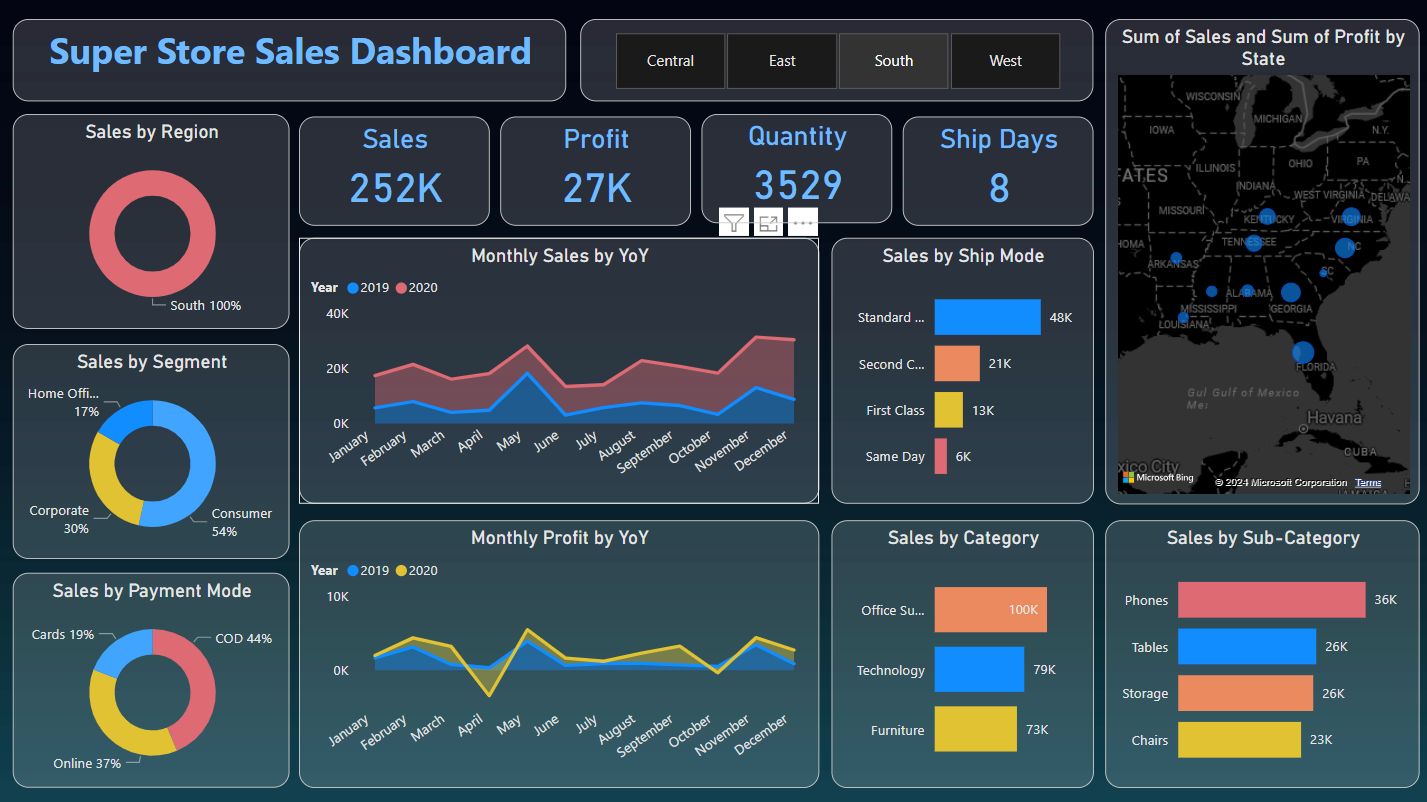

What the dashboard file says about the page in this screenshot:
{"tool":"powerbi","page":{"name":"Page 1","canvas":[1280,720],"ordinal":0},"visuals":[{"type":"clusteredBarChart","title":"Sales by Category","fields":{"Category":["SuperStore_Sales_Dataset.Category"],"Y":["Sum(SuperStore_Sales_Dataset.Sales)"]},"box":[743.3,465.9,234.1,238.9],"z":0},{"type":"clusteredBarChart","title":"Sales by Sub-Category","fields":{"Category":["SuperStore_Sales_Dataset.Sub-Category"],"Y":["Sum(SuperStore_Sales_Dataset.Sales)"]},"box":[988.2,465.9,281,238.9],"z":1000},{"type":"clusteredBarChart","title":"Sales by Ship Mode","fields":{"Category":["SuperStore_Sales_Dataset.Ship Mode"],"Y":["Sum(SuperStore_Sales_Dataset.Sales)"]},"box":[743.3,213.7,234.1,237.7],"z":2000},{"type":"stackedAreaChart","title":"Monthly Sales by YoY","fields":{"Category":["SuperStore_Sales_Dataset.Order Date.Variation.Date Hierarchy.Month"],"Y":["Sum(SuperStore_Sales_Dataset.Sales)"],"Series":["SuperStore_Sales_Dataset.Order Date.Variation.Date Hierarchy.Year"]},"box":[267.8,213.7,464.7,237.7],"z":3000},{"type":"stackedAreaChart","title":"Monthly Profit by YoY","fields":{"Category":["SuperStore_Sales_Dataset.Order Date.Variation.Date Hierarchy.Month"],"Series":["SuperStore_Sales_Dataset.Order Date.Variation.Date Hierarchy.Year"],"Y":["Sum(SuperStore_Sales_Dataset.Profit)"]},"box":[267.8,465.9,464.7,238.9],"z":4000},{"type":"map","fields":{"Category":["SuperStore_Sales_Dataset.State"],"Size":["Sum(SuperStore_Sales_Dataset.Sales)"]},"box":[988.2,18,281,433.5],"z":5000},{"type":"donutChart","title":"Sales by Segment","fields":{"Category":["SuperStore_Sales_Dataset.Segment"],"Y":["Sum(SuperStore_Sales_Dataset.Sales)"]},"box":[12,308.6,247.4,192.1],"z":6000},{"type":"donutChart","title":"Sales by Payment Mode","fields":{"Category":["SuperStore_Sales_Dataset.Payment Mode"],"Y":["Sum(SuperStore_Sales_Dataset.Sales)"]},"box":[12,512.7,247.4,192.1],"z":7000},{"type":"slicer","fields":{"Values":["SuperStore_Sales_Dataset.Region"]},"box":[518.7,18,458.7,73.2],"z":8000},{"type":"textbox","box":[12,18,494.7,73.2],"z":9000},{"type":"card","title":"Sales","fields":{"Values":["Sum(SuperStore_Sales_Dataset.Sales)"]},"box":[267.8,104.5,170.5,97.3],"z":10000},{"type":"card","title":"Profit","fields":{"Values":["Sum(SuperStore_Sales_Dataset.Profit)"]},"box":[447.9,104.5,170.5,97.3],"z":11000},{"type":"card","title":"Quantity","fields":{"Values":["Sum(SuperStore_Sales_Dataset.Quantity)"]},"box":[628,103.3,170.5,97.3],"z":12000},{"type":"card","title":"Ship Days","fields":{"Values":["Avg(SuperStore_Sales_Dataset.Shipment Days)"]},"box":[806.9,104.5,170.5,97.3],"z":13000},{"type":"donutChart","title":"Sales by Region","fields":{"Y":["Sum(SuperStore_Sales_Dataset.Sales)"],"Category":["SuperStore_Sales_Dataset.Region"]},"box":[12,103.3,247.4,192.1],"z":14000}]}

Visuals, with their boxes in screenshot pixels (x1, y1, x2, y2), scaled from the page's 1280x720 canvas onto the 1427x802 screenshot:
"Sales by Category" clusteredBarChart: region(829, 519, 1090, 785)
"Sales by Sub-Category" clusteredBarChart: region(1102, 519, 1415, 785)
"Sales by Ship Mode" clusteredBarChart: region(829, 238, 1090, 503)
"Monthly Sales by YoY" stackedAreaChart: region(299, 238, 817, 503)
"Monthly Profit by YoY" stackedAreaChart: region(299, 519, 817, 785)
map - SuperStore_Sales_Dataset.State x Sum(SuperStore_Sales_Dataset.Sales): region(1102, 20, 1415, 503)
"Sales by Segment" donutChart: region(13, 344, 289, 558)
"Sales by Payment Mode" donutChart: region(13, 571, 289, 785)
slicer - SuperStore_Sales_Dataset.Region: region(578, 20, 1090, 102)
textbox: region(13, 20, 565, 102)
"Sales" card: region(299, 116, 489, 225)
"Profit" card: region(499, 116, 689, 225)
"Quantity" card: region(700, 115, 890, 223)
"Ship Days" card: region(900, 116, 1090, 225)
"Sales by Region" donutChart: region(13, 115, 289, 329)
